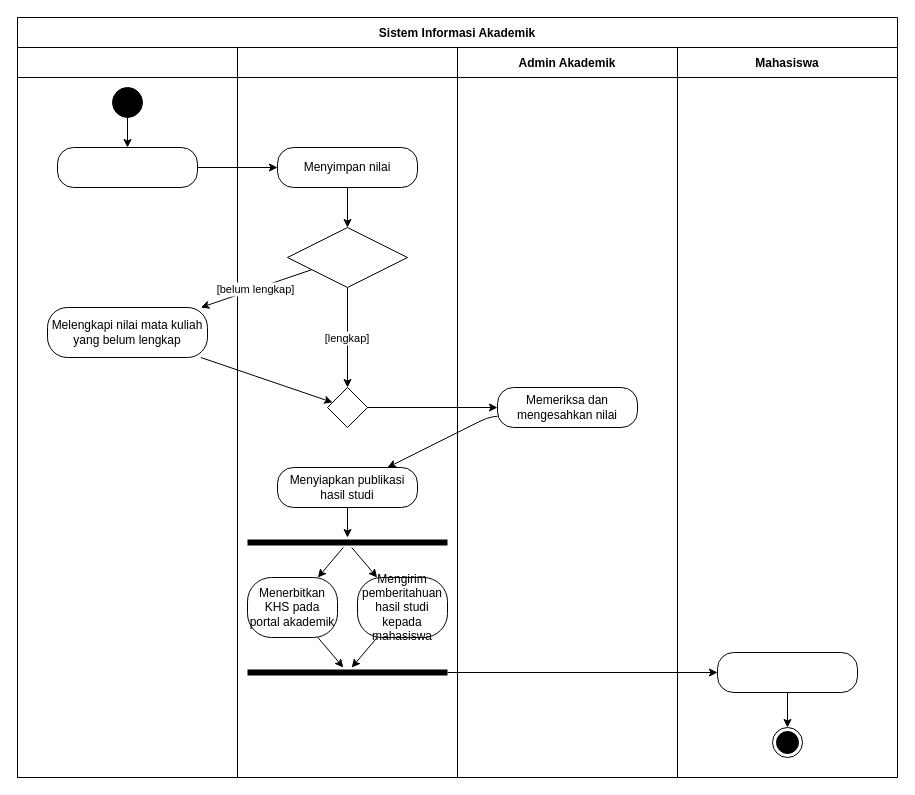
The diagram is 915 pixels wide and 795 high, and some of its shapes have lost their labels. The shapes that lost their labels are listed below. From the top down, each one's box as (x1, y1, x2, y2) in pixels, then its label:
(56, 146, 198, 188): Memasukkan nilai mata kuliah
(286, 226, 408, 288): Nilai sudah lengkap?
(16, 46, 238, 778): Dosen
(236, 46, 458, 778): Sistem
(716, 652, 858, 692): Melihat KHS
